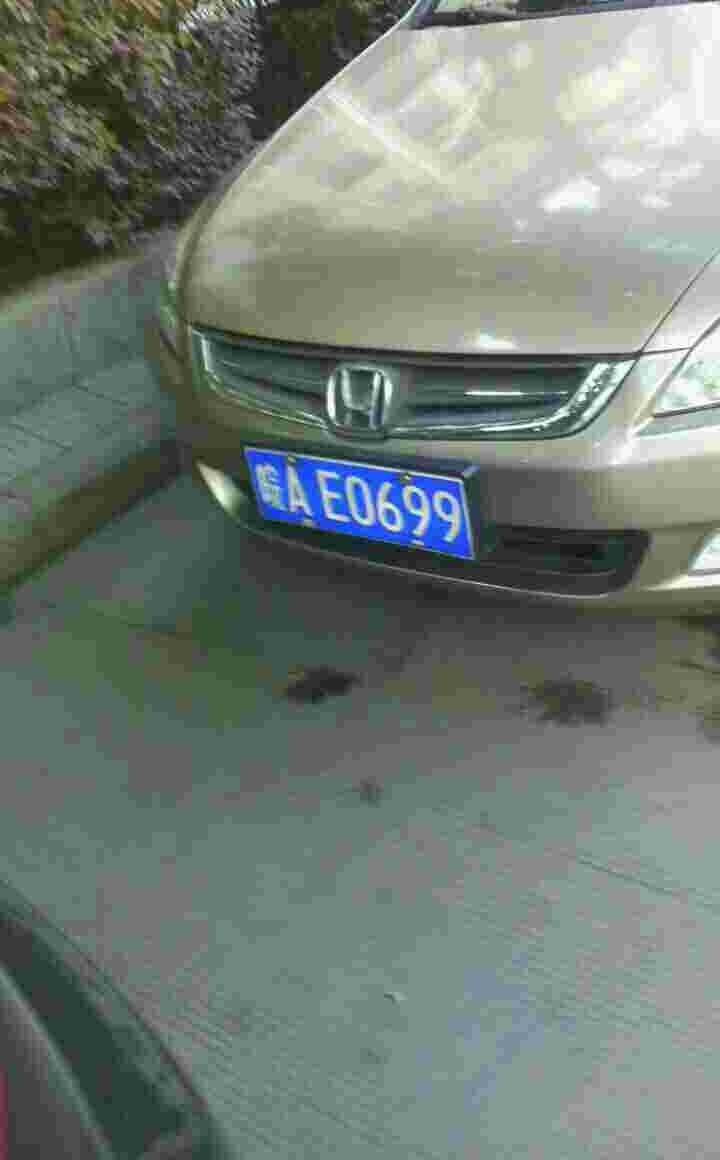license_plate: (248, 454, 476, 546)
